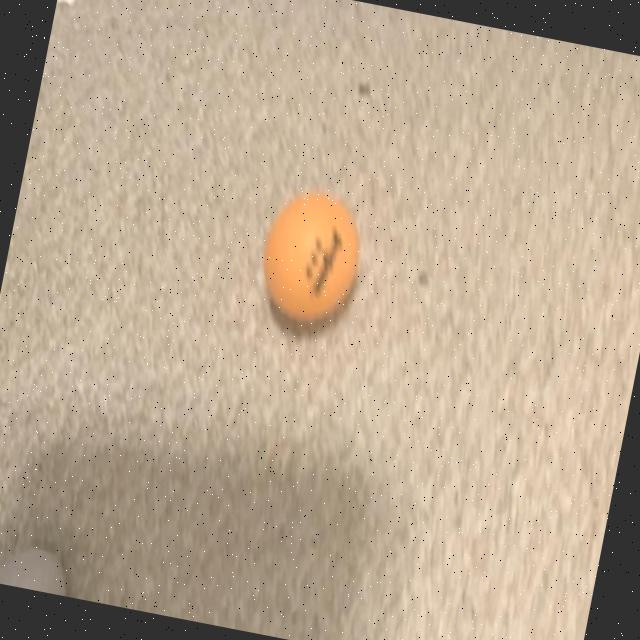ping-pong-ball: (244, 175, 377, 337)
